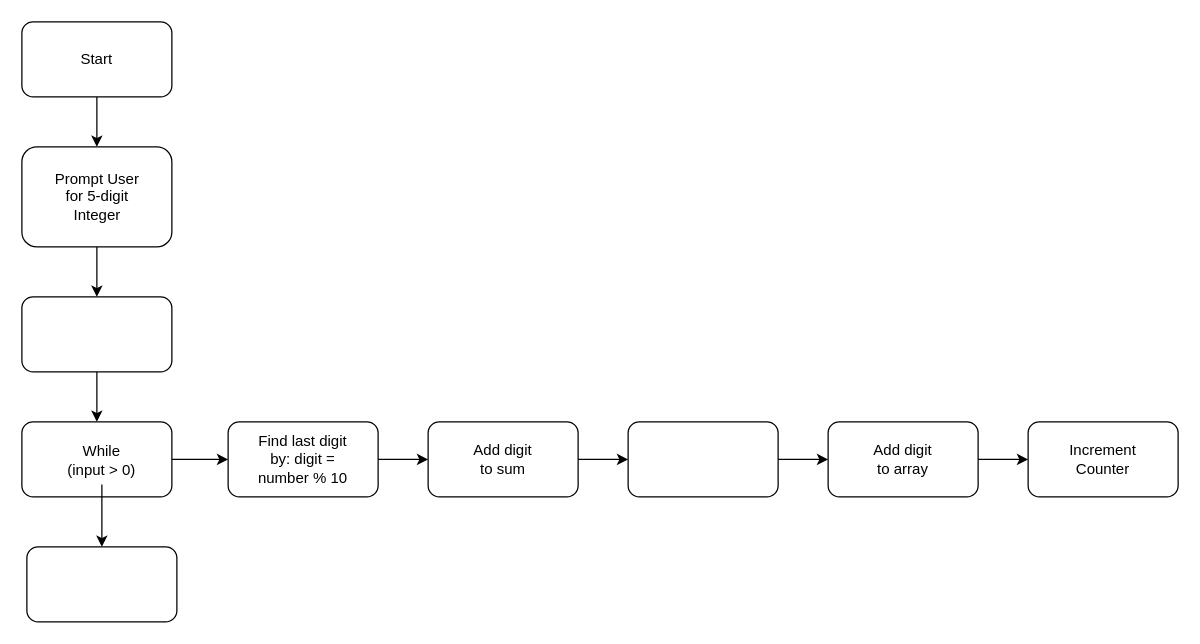
Some shapes in this 1200 by 644 pixel diagram are drawn without their labels. The shapes that lost their labels are listed below. From the top down, each one's box as (x1, y1, x2, y2) in pixels, then its label:
(21, 296, 172, 372): Read Input as Integer
(627, 421, 778, 497): Remove last digit by: number = number / 10
(26, 546, 177, 622): Output Result
